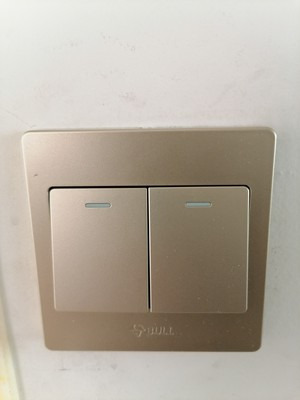switch: (141, 179, 260, 318), (39, 180, 158, 318)
